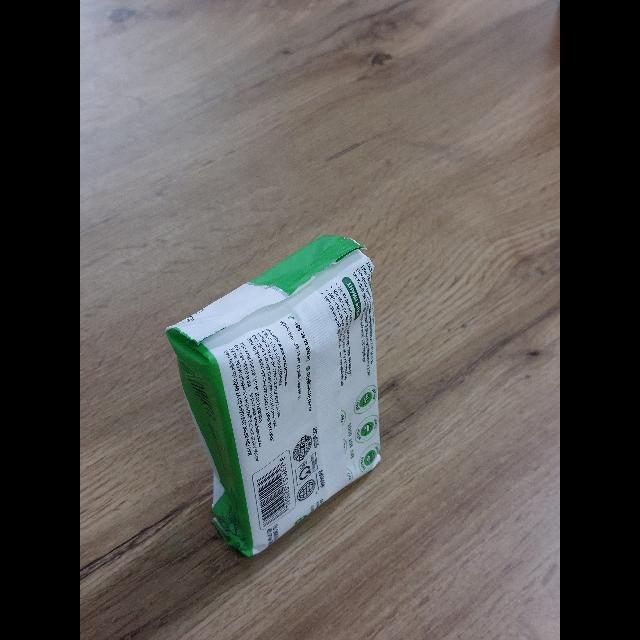khan_giay: (166, 234, 382, 560)
